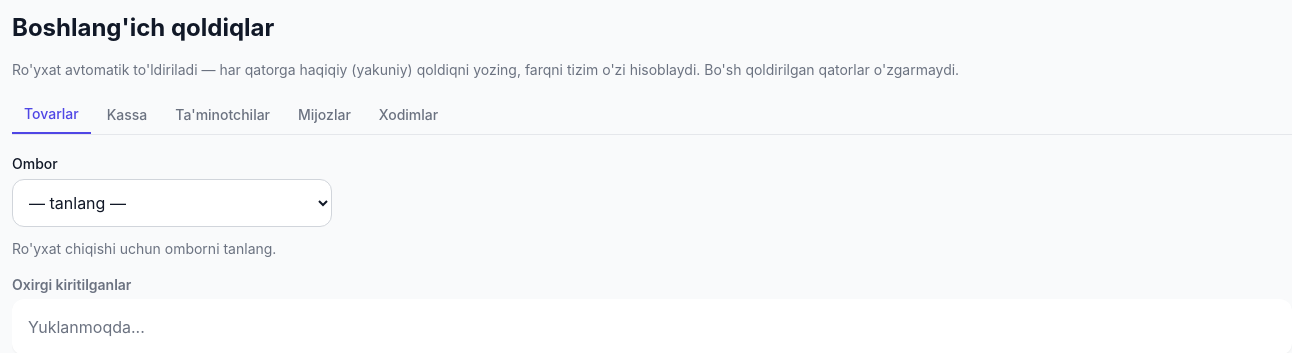
OpeningBalancesPage — rolga qarab yozish (audit K3b) › menejer tovar qoldig‘ini kiritadi, kassani esa faqat ko‘radi
Check: the text "Ro'yxat chiqishi uchun omborni tanlang." is shown, box [12,240,276,257]
Check: the text "Faqat ko‘rish" is not shown
Click the button "Kassa". click: click(127, 115)
box: [95,96,159,134]
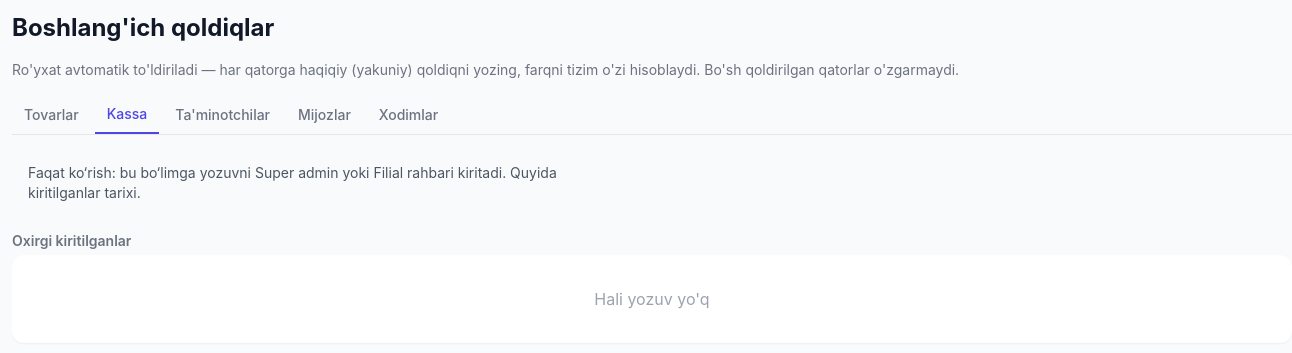
Check: the text "Faqat ko‘rish" is shown, box [28,164,255,181]
